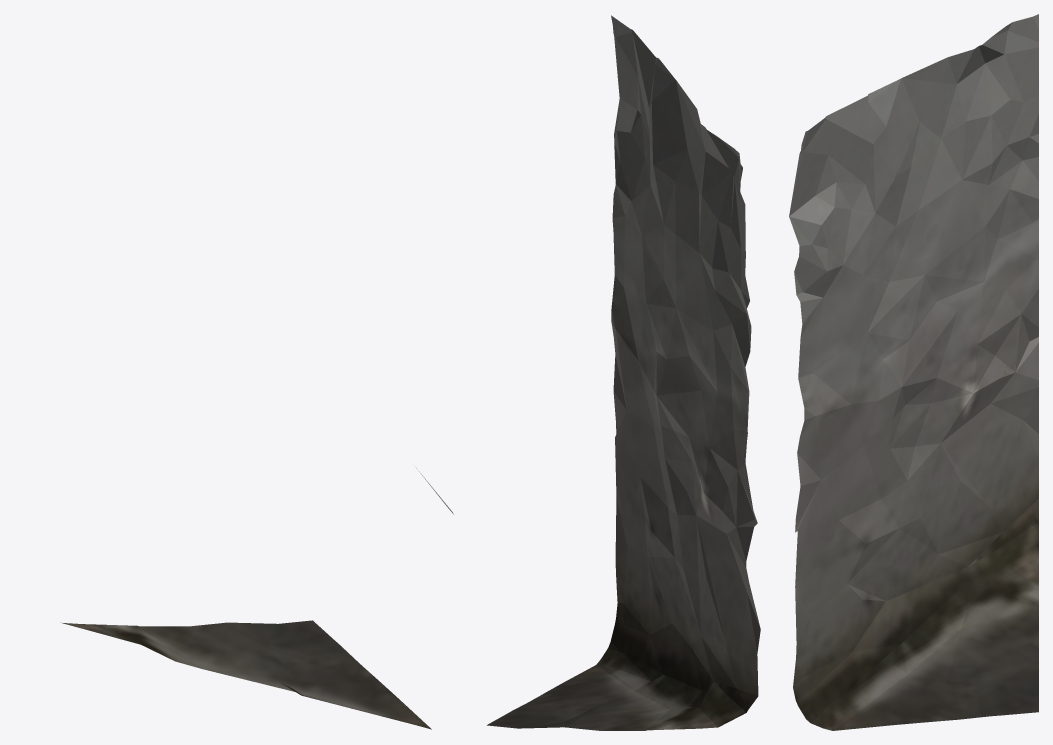
3 renders of one model, left to right at view 1: azimuth 30°, elevation 25°; view 2: azimuth 150°, elevation 25°; view 3: azimuth 270°, elevation 25°, orthographic. The views are drawn at different scales.
Bounding box in the file's own units: 0.2331 × 0.5193 × 0.1962.
1 material, 1 textured.
